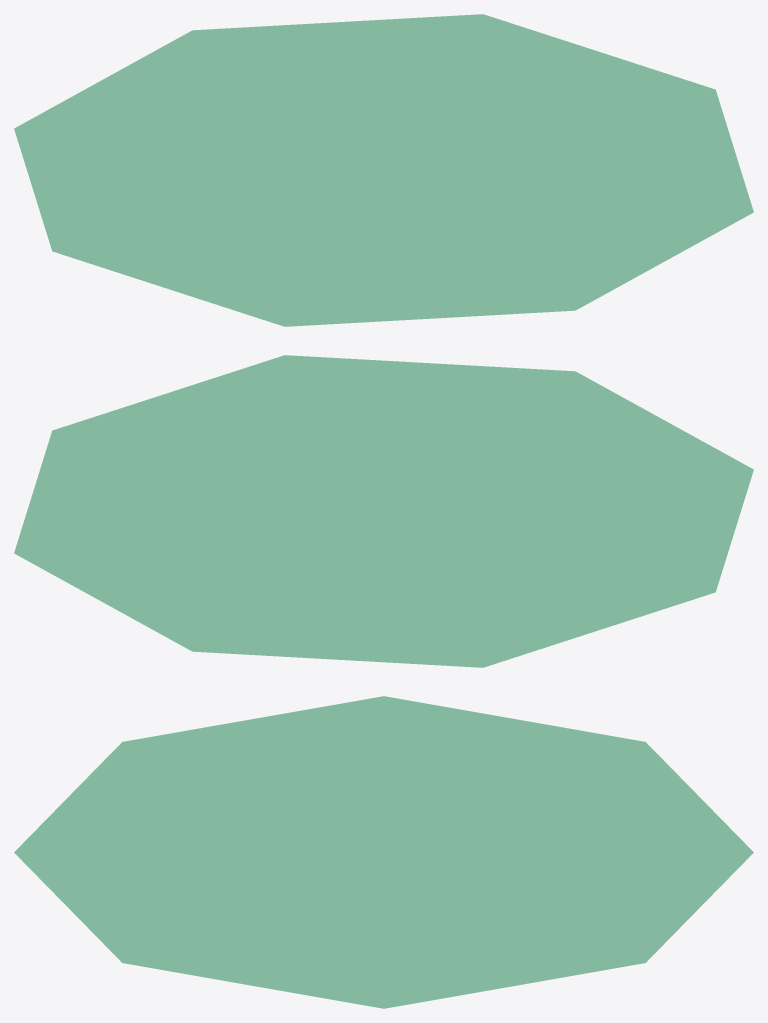
Rendered from floor-sticker.glb.
3 views of the same model, one above another, from view 1: azimuth 30°, elevation 25°; view 2: azimuth 150°, elevation 25°; view 3: azimuth 270°, elevation 25° (orthographic). The views are drawn at different scales.
Parts seen in each view (by area): view 1: part; view 2: part; view 3: part.
Part boxes in pixels (bbox=[...]): part: bbox=[14, 14, 753, 326]; part: bbox=[14, 355, 753, 667]; part: bbox=[14, 696, 753, 1008].
Size of the model in its own units: 0.3 by 1.82e-17 by 0.3.
Materials: 1 (1 with a texture image).
